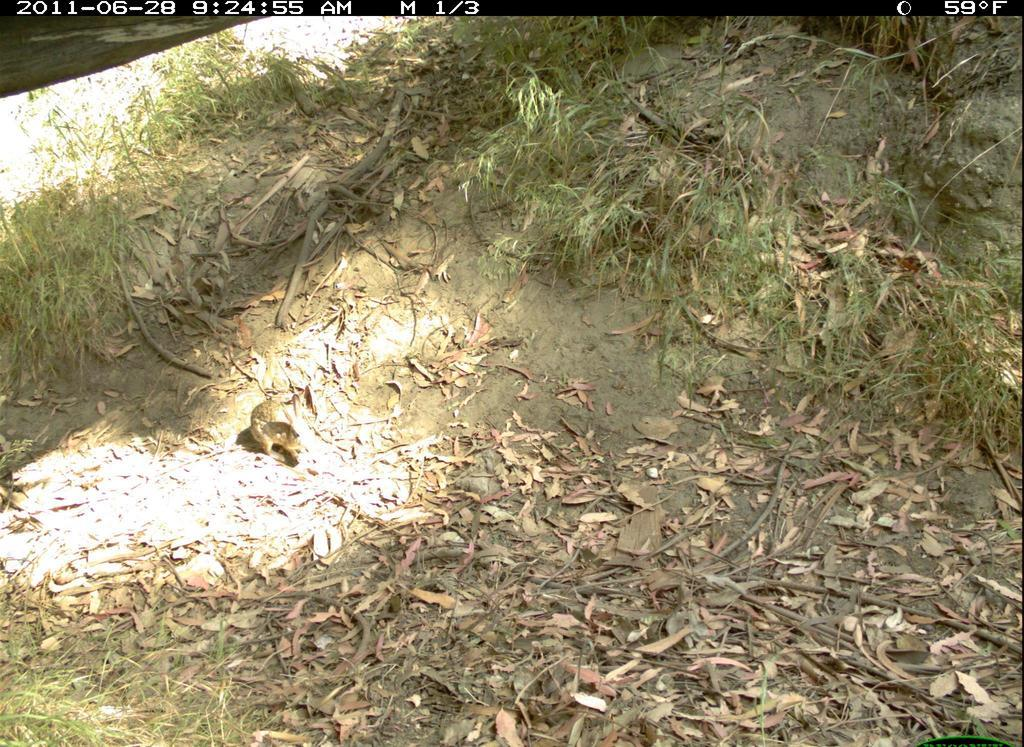rabbit: (249, 392, 319, 465)
